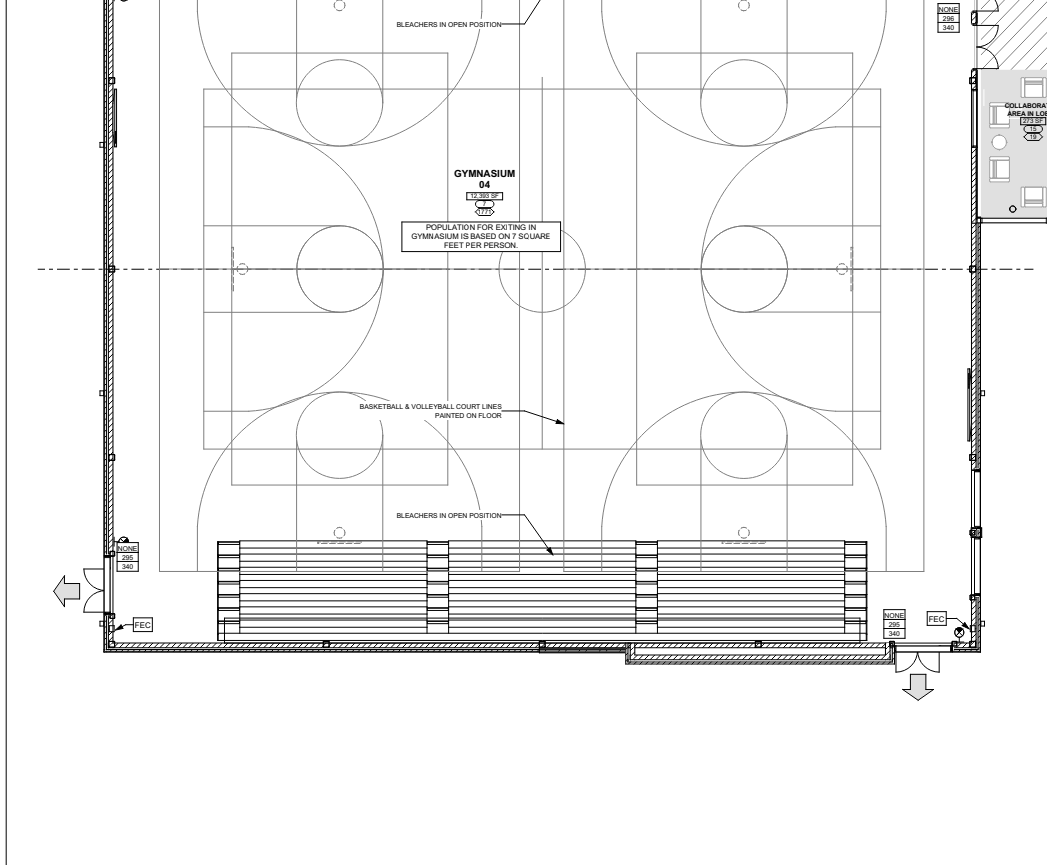double door: (81, 565, 115, 616), (973, 21, 1001, 76), (893, 646, 944, 675)
